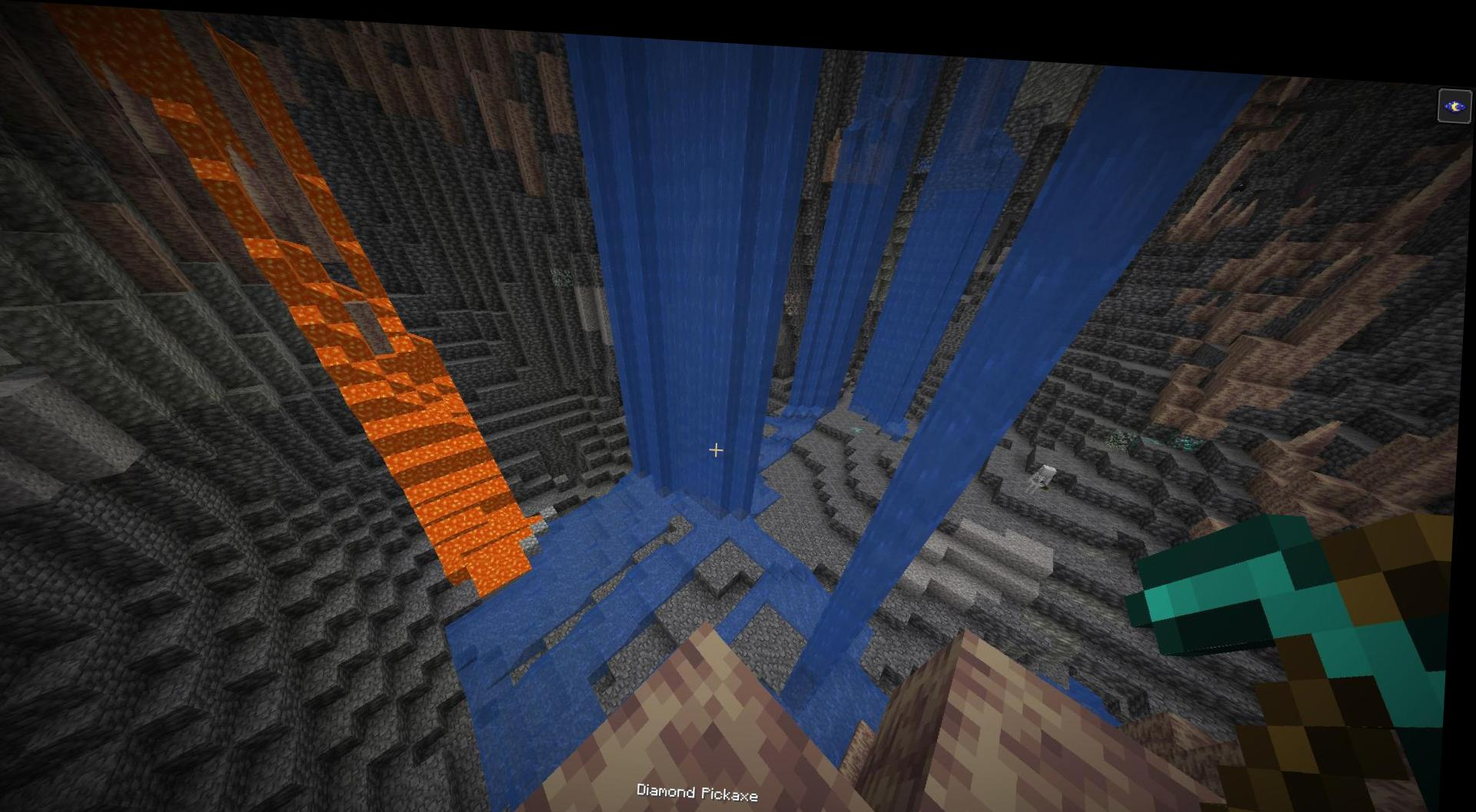diamond ore: (1176, 419, 1209, 439), (852, 414, 869, 426)
